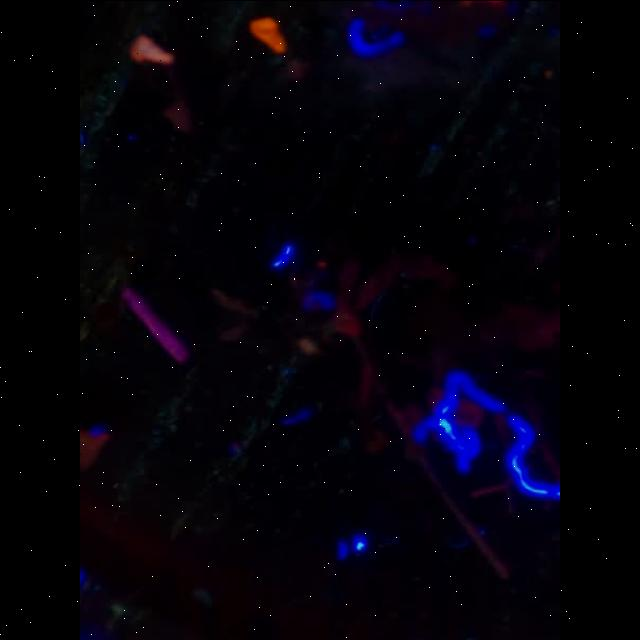Fragment: (130, 35, 174, 64)
